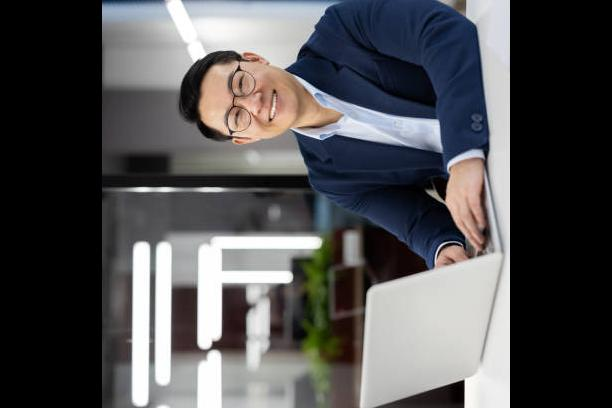Non_Gorille: (149, 0, 510, 322)
